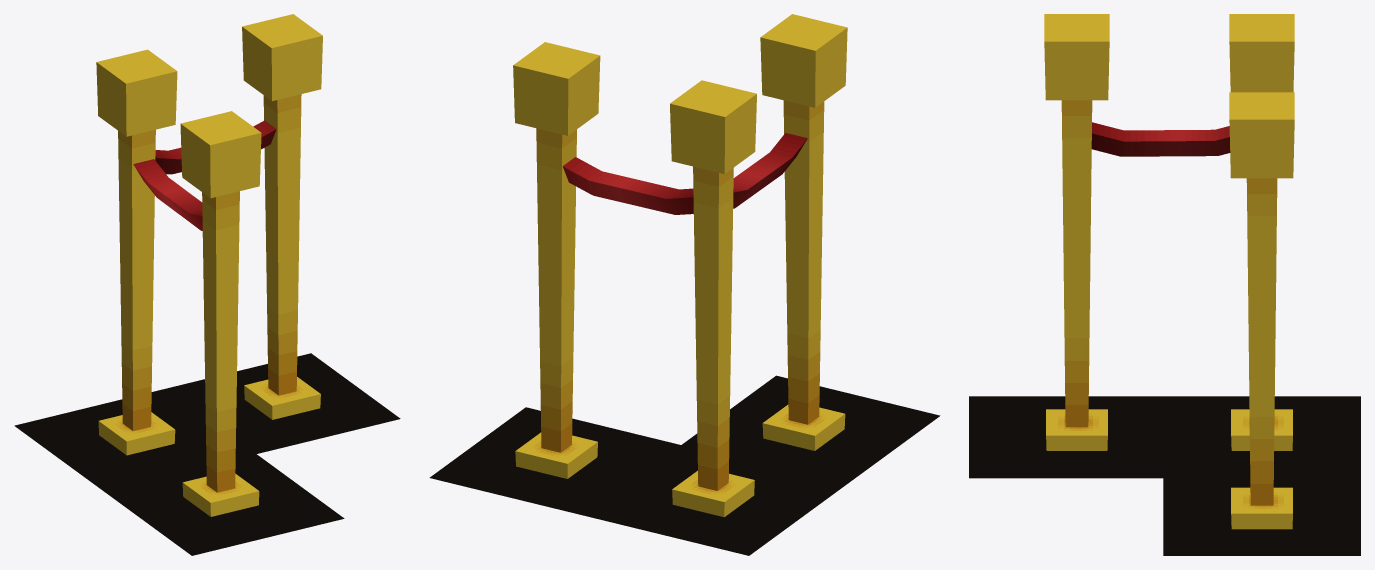
Rendered from corner_velvet_rope.FBX.
The picture shows the model from 3 angles, left to right: view 1: azimuth 30°, elevation 25°; view 2: azimuth 150°, elevation 25°; view 3: azimuth 270°, elevation 25°; orthographic projection. The views are drawn at different scales.
Visible parts, largest first — view 1: corner_velvet_rope, corner_velvet_rope_soft_shadow; view 2: corner_velvet_rope, corner_velvet_rope_soft_shadow; view 3: corner_velvet_rope, corner_velvet_rope_soft_shadow.
Part boxes in pixels (box(x1,y1,x2,y2)): corner_velvet_rope: box(96, 14, 322, 516); corner_velvet_rope_soft_shadow: box(14, 353, 400, 555); corner_velvet_rope: box(513, 14, 847, 517); corner_velvet_rope_soft_shadow: box(429, 375, 940, 555); corner_velvet_rope: box(1044, 14, 1294, 529); corner_velvet_rope_soft_shadow: box(969, 396, 1360, 555).
Size of the model in its own units: 867 by 1050 by 900.
